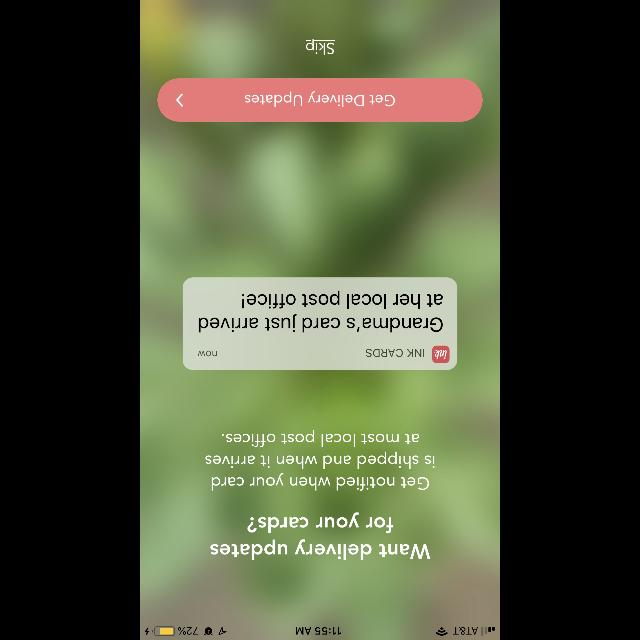image: (432, 346, 450, 362)
text: (205, 430, 435, 490), (210, 512, 430, 560), (199, 290, 443, 332), (366, 349, 424, 357), (306, 40, 334, 54), (198, 350, 216, 356)
textbutton: (158, 78, 482, 122)
uppertaskbar: (140, 626, 500, 640)
